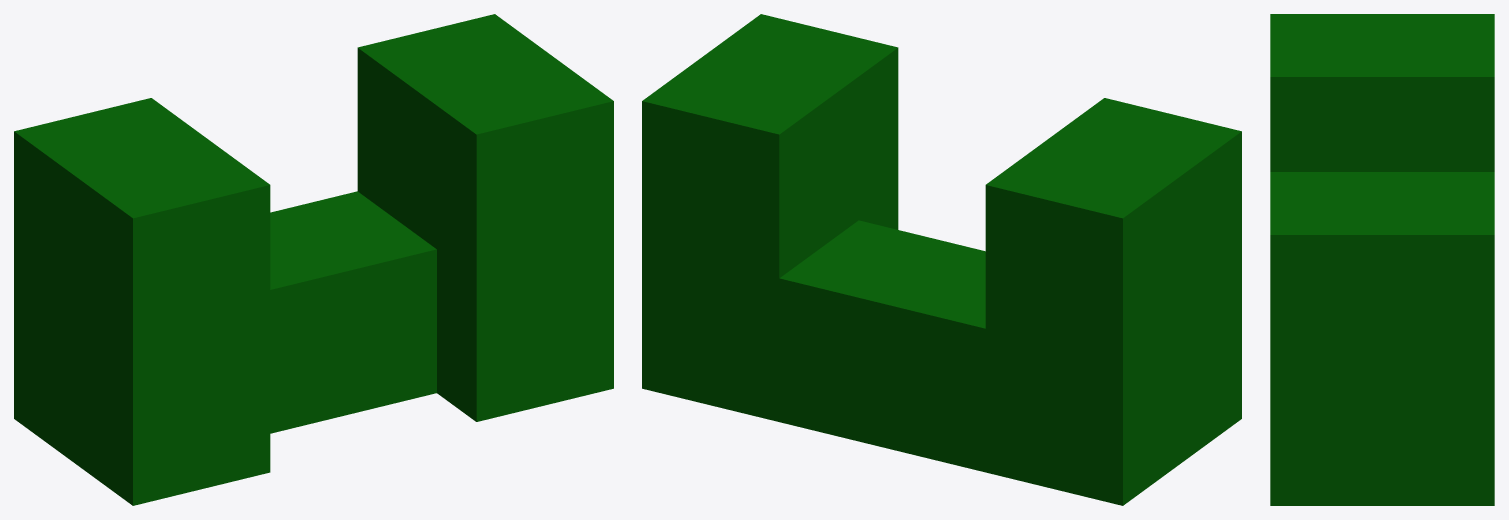
3 renders of one model, left to right at view 1: azimuth 30°, elevation 25°; view 2: azimuth 150°, elevation 25°; view 3: azimuth 270°, elevation 25°, orthographic. The views are drawn at different scales.
Visible parts, largest first — view 1: SketchUp; view 2: SketchUp; view 3: SketchUp.
Part boxes in pixels (x1,y1,x2,y2): SketchUp: (14,14,613,505); SketchUp: (642,14,1241,505); SketchUp: (1270,14,1494,505).
Bounding box in the file's own units: 276 × 118 × 157.
